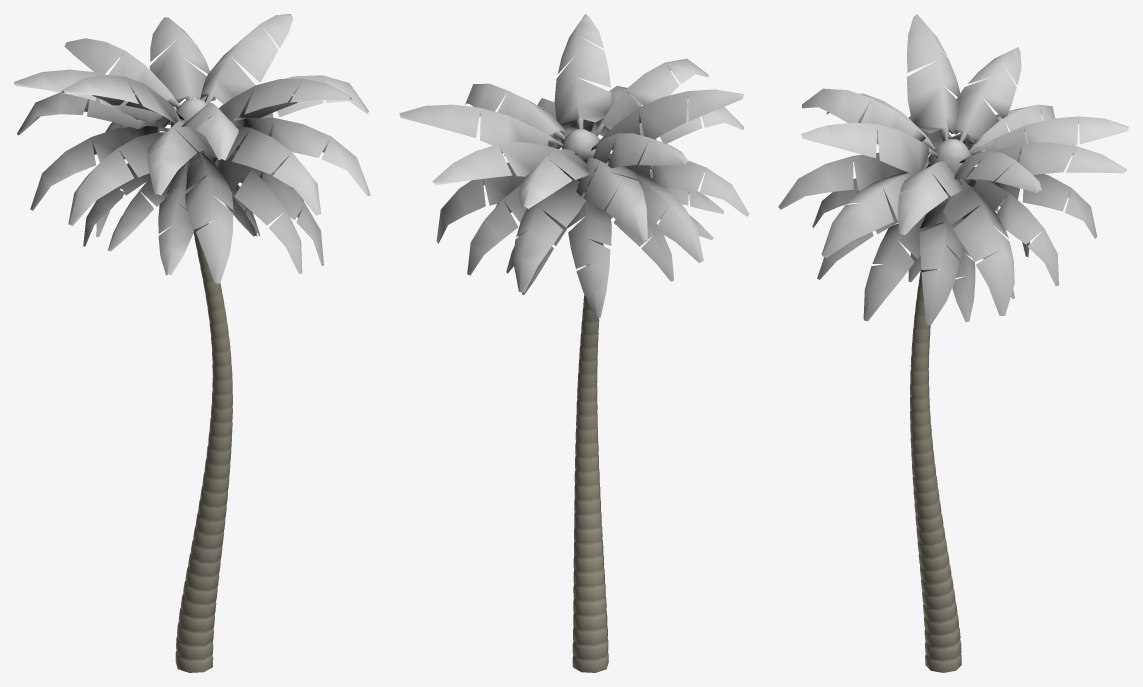
File: ballpit_palmtree_b.fbx
The picture shows the model from 3 angles, left to right: view 1: azimuth 30°, elevation 25°; view 2: azimuth 150°, elevation 25°; view 3: azimuth 270°, elevation 25°; orthographic projection. The views are drawn at different scales.
Visible parts, largest first — view 1: Frond Root.001; view 2: Frond Root.001; view 3: Frond Root.001.
Boxes of the visible parts, x1,y1,x2,y2 form: Frond Root.001: (14, 14, 370, 672); Frond Root.001: (399, 14, 749, 672); Frond Root.001: (778, 14, 1128, 672).
Size of the model in its own units: 891 by 1775 by 962.
